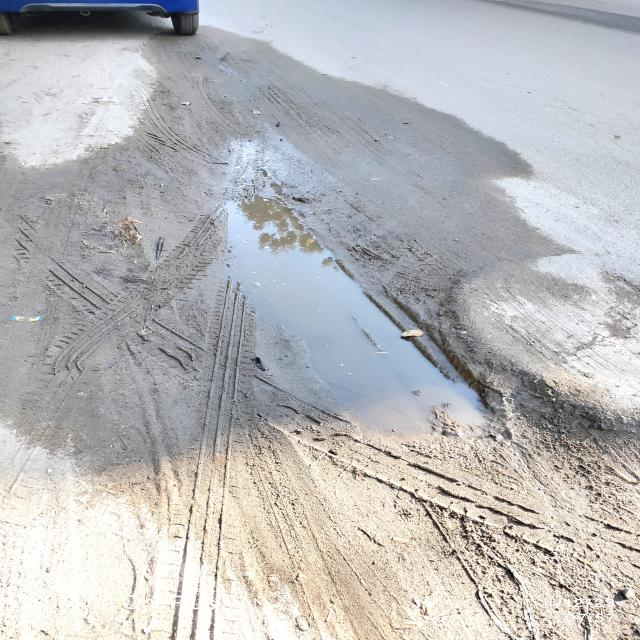Puddle pothole: (204, 146, 523, 447)
